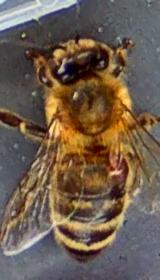varroa_mite: (106, 153, 128, 184)
